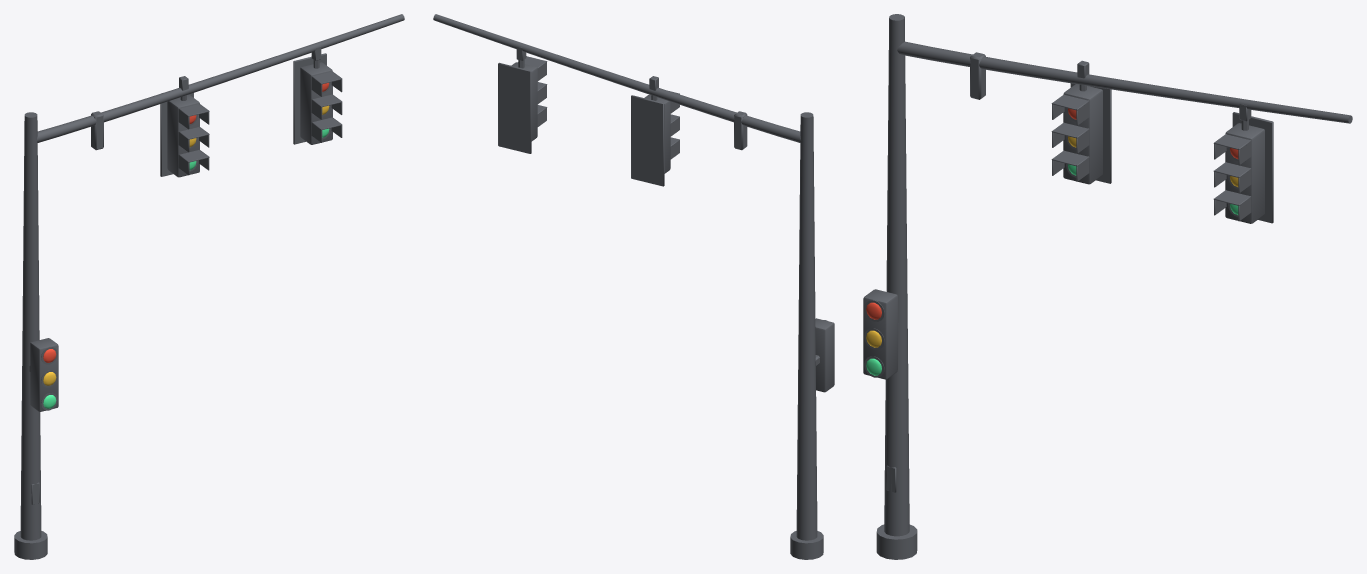
File: TrafficLight_Pole.fbx
3 renders of one model, left to right at view 1: azimuth 30°, elevation 25°; view 2: azimuth 150°, elevation 25°; view 3: azimuth 330°, elevation 25°, orthographic. The views are drawn at different scales.
Visible parts, largest first — view 1: TrafficLight_Pole; view 2: TrafficLight_Pole; view 3: TrafficLight_Pole.
Part boxes in pixels (<box>): TrafficLight_Pole: <box>14,14,404,559</box>; TrafficLight_Pole: <box>433,14,834,559</box>; TrafficLight_Pole: <box>863,14,1352,559</box>.
Size of the model in its own units: 5.82 by 6.44 by 0.734.
